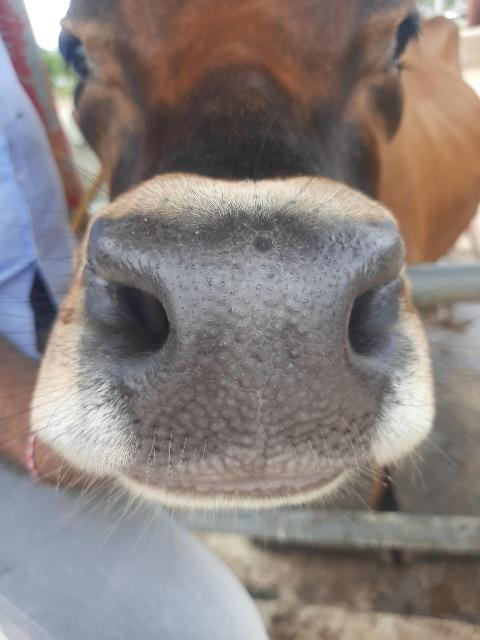Muzzle: (81, 220, 389, 470)
